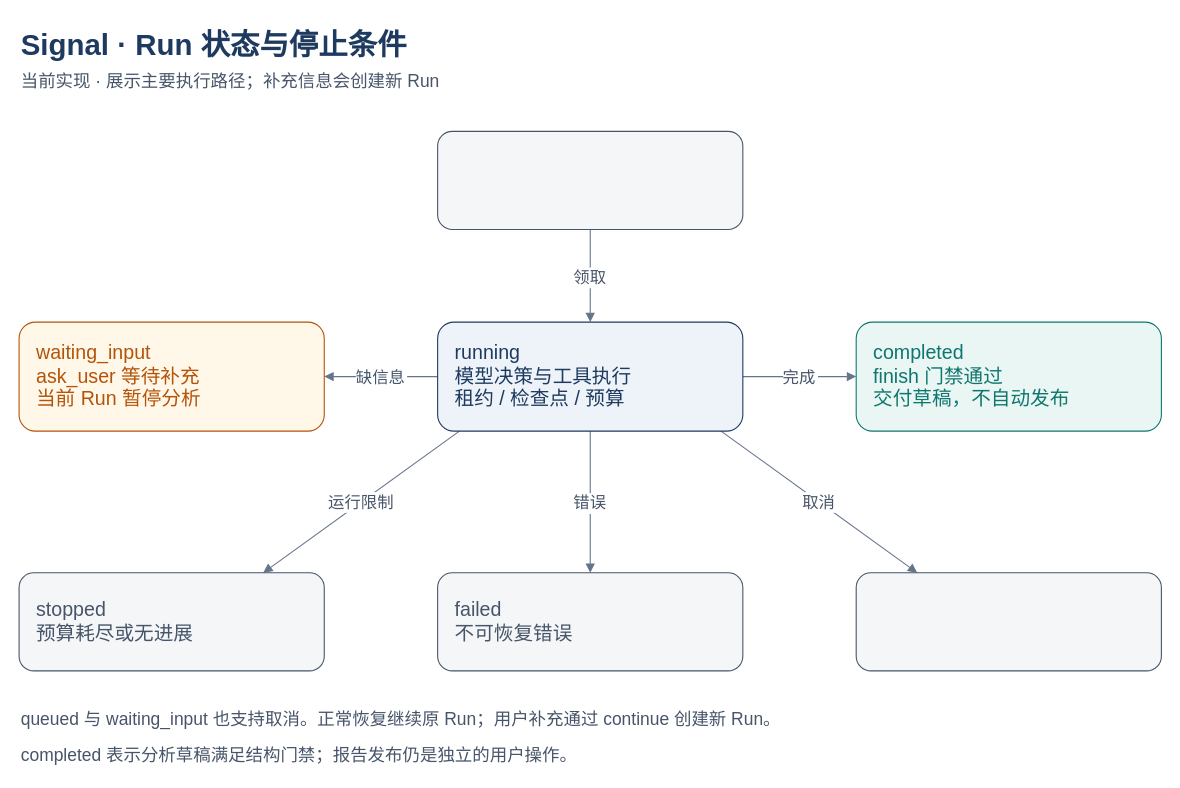
Some shapes in this 1180 by 788 pixel diagram are drawn without their labels. The centre of each missing label's shape, as x and y in pixels:
"cancelled 用户取消后续执行" goes at pixel 1008 621.
"queued 等待 Worker 领取" goes at pixel 590 179.
